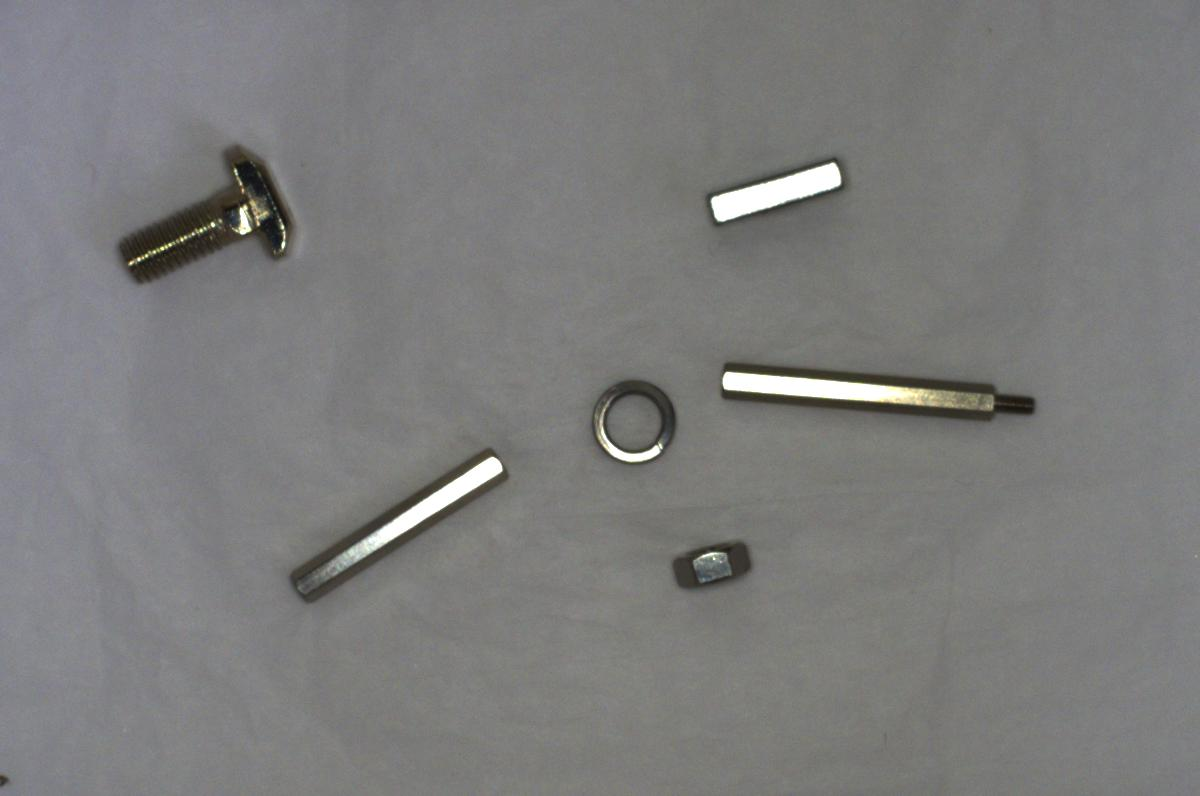Double hexagonal column: (288, 446, 515, 600)
Hexagon nut: (668, 534, 761, 596)
Hexagonal steel column: (711, 354, 1042, 430)
Rectangular nut: (701, 142, 845, 240)
Spring washer: (587, 372, 686, 463)
T-shaped screw: (119, 142, 302, 280)
